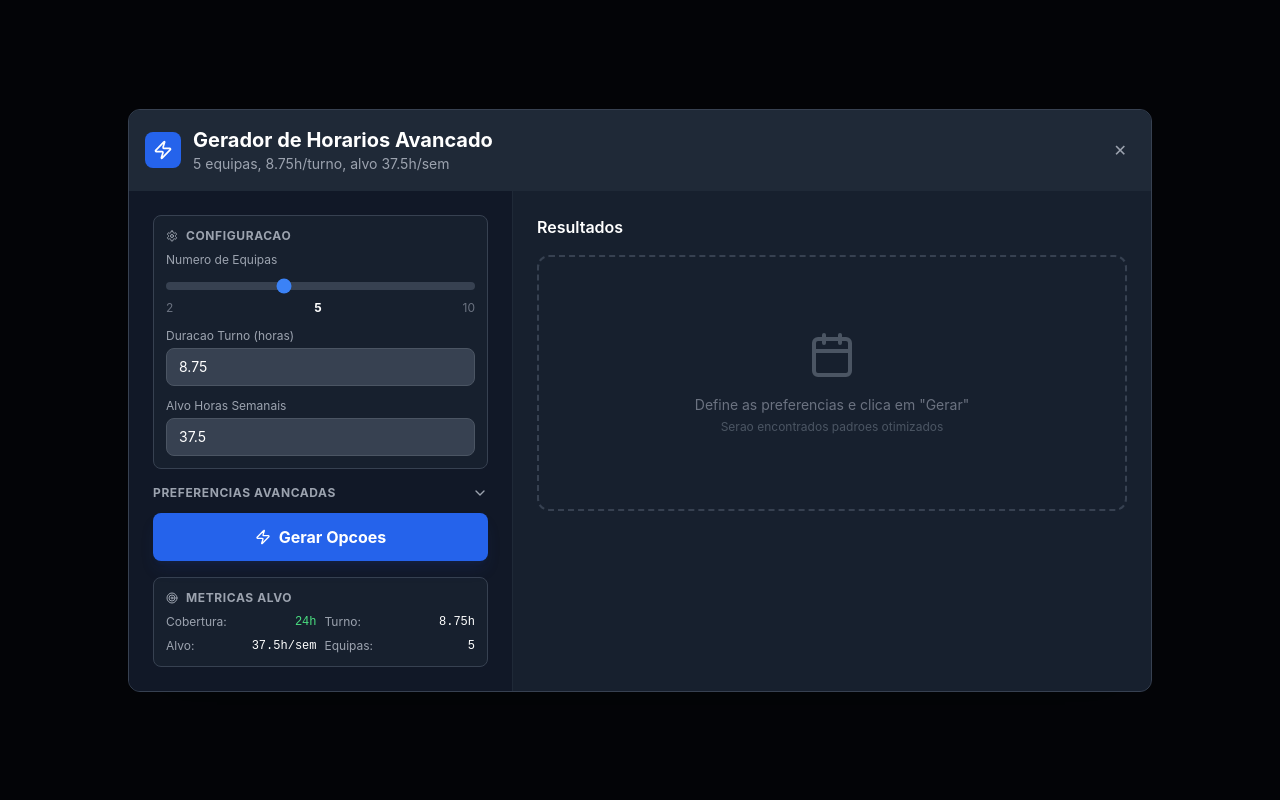
Test case: GeneratorUI › should toggle advanced preferences
Check: the text "Max. Dias Trabalho Seguidos" is not shown
What coordinates should you click on to do the following:
click the button "Preferencias Avancadas"
I would click on:
 (320, 492)
Its box is [153,484,488,500].
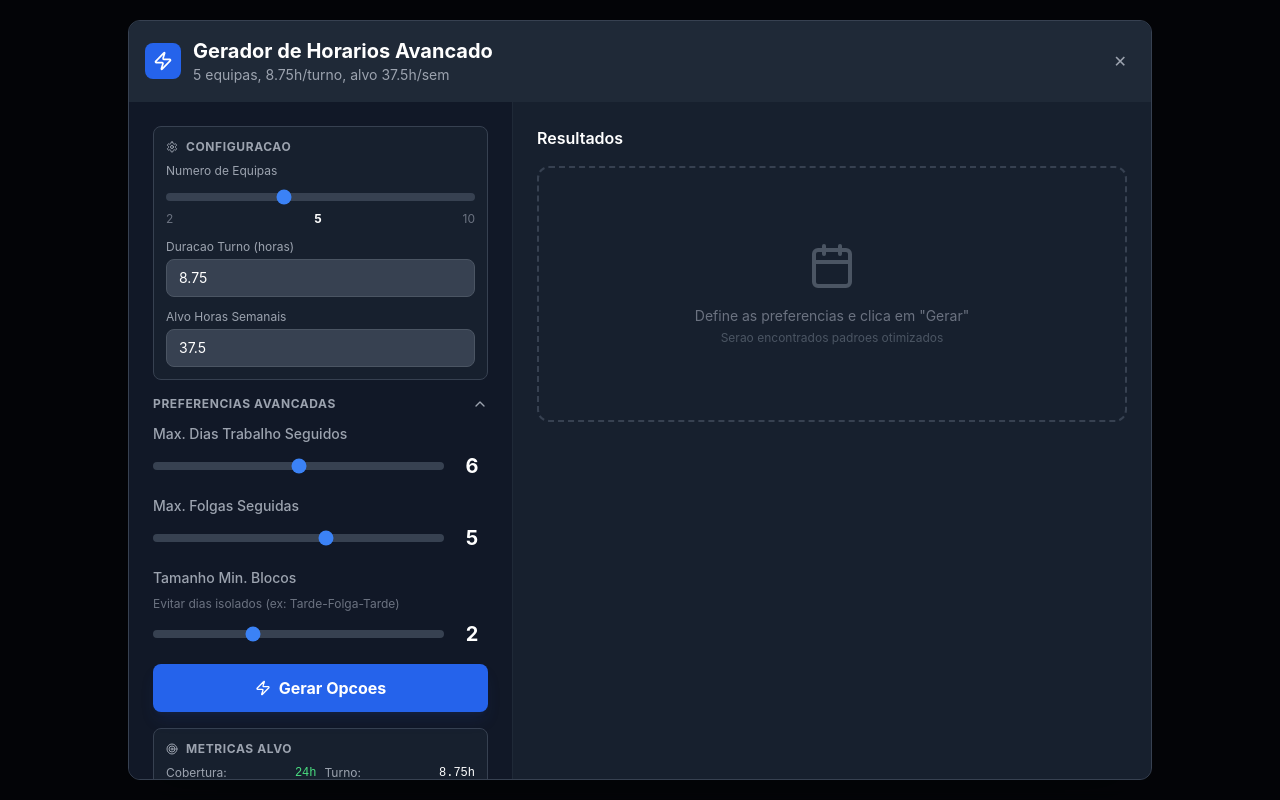
Check: the text "Max. Dias Trabalho Seguidos" is shown, box [153,425,347,442]
Check: the text "Max. Folgas Seguidas" is shown, box [153,497,299,514]
Check: the text "Tamanho Min. Blocos" is shown, box [153,569,296,586]
